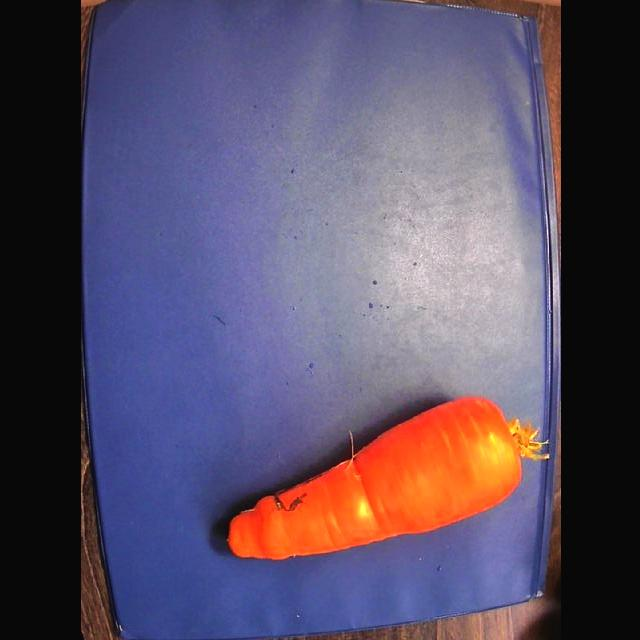zanahoria: (227, 398, 548, 559)
